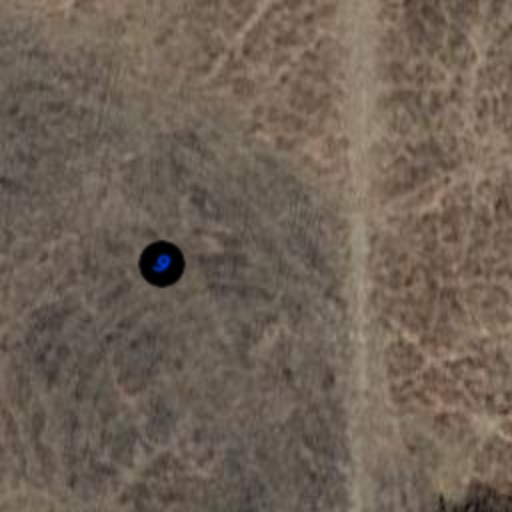circle: (130, 232, 194, 296)
